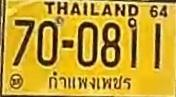0: (36, 20, 57, 65), (78, 21, 98, 66)
1: (128, 27, 138, 67), (154, 22, 160, 68)
7: (12, 18, 34, 64)
8: (100, 22, 120, 66)
KPT: (46, 70, 134, 92)
